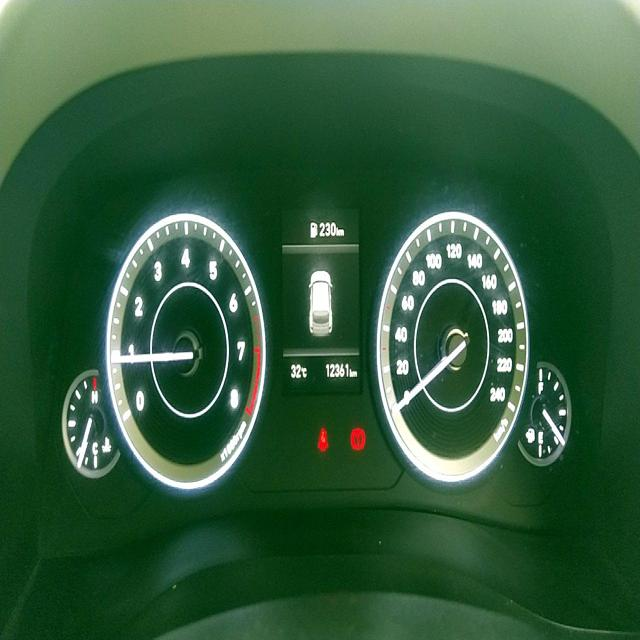odometer: (324, 360, 350, 381)
